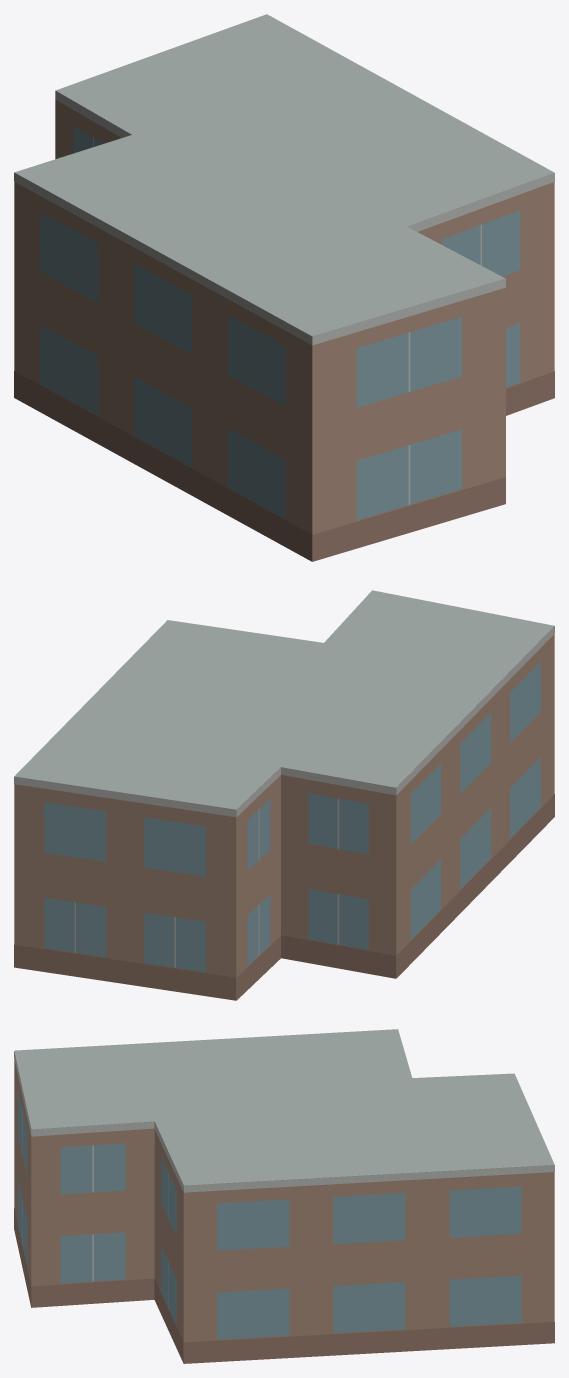
Rendered from survey-upis-32689084.glb.
3 views of the same model, one above another, from view 1: azimuth 30°, elevation 25°; view 2: azimuth 150°, elevation 25°; view 3: azimuth 270°, elevation 25° (orthographic). The views are drawn at different scales.
Visible parts, largest first — view 1: survey-upis-32689084.tmp; view 2: survey-upis-32689084.tmp; view 3: survey-upis-32689084.tmp.
Part boxes in pixels (<box>): survey-upis-32689084.tmp: <box>14,14,554,561</box>; survey-upis-32689084.tmp: <box>14,590,554,1000</box>; survey-upis-32689084.tmp: <box>14,1029,554,1363</box>.
Bounding box in the file's own units: 11.49 × 6.1 × 16.78.
